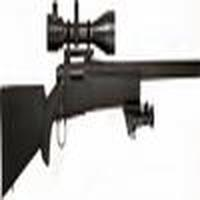gun: (3, 5, 200, 179)
